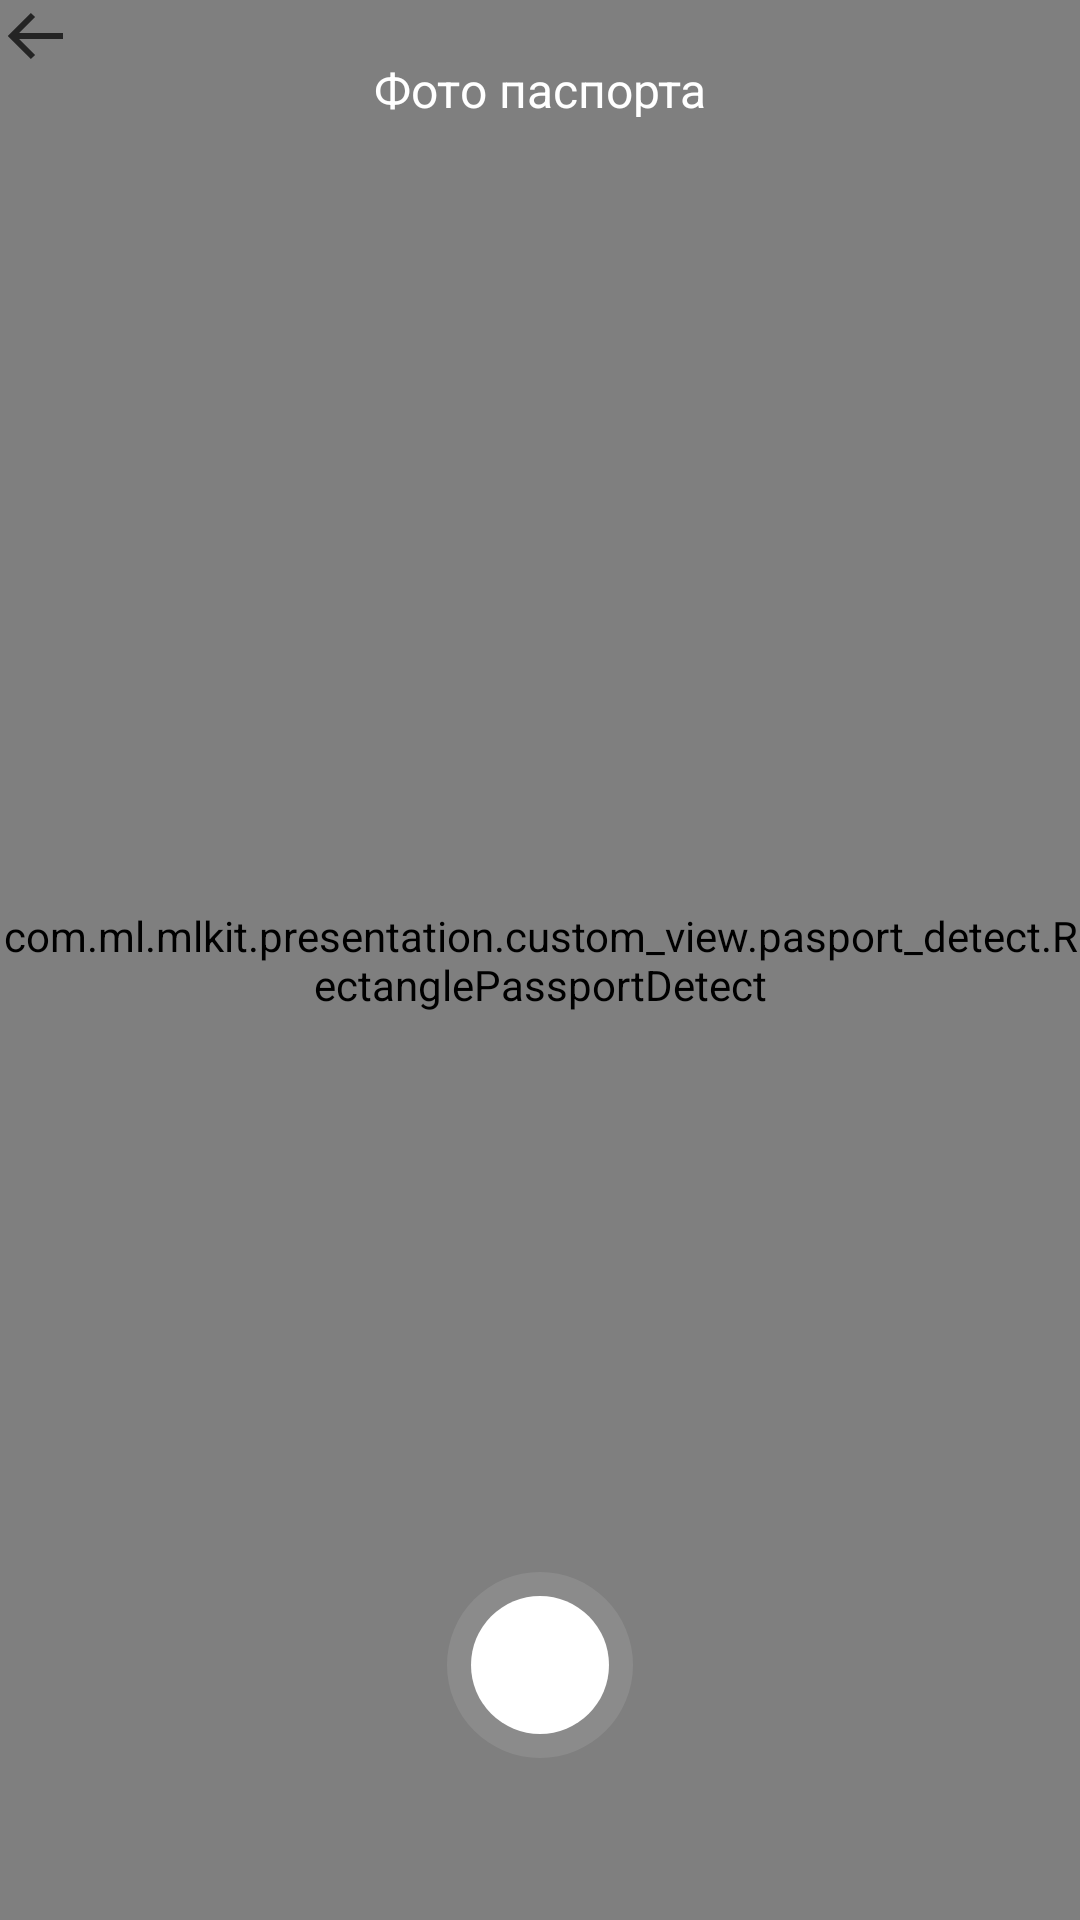

Screen size 1080*1920. Icon name, then its box in pixels as region(x1, y1, x2, y2):
arrow back: region(8, 13, 63, 59)
